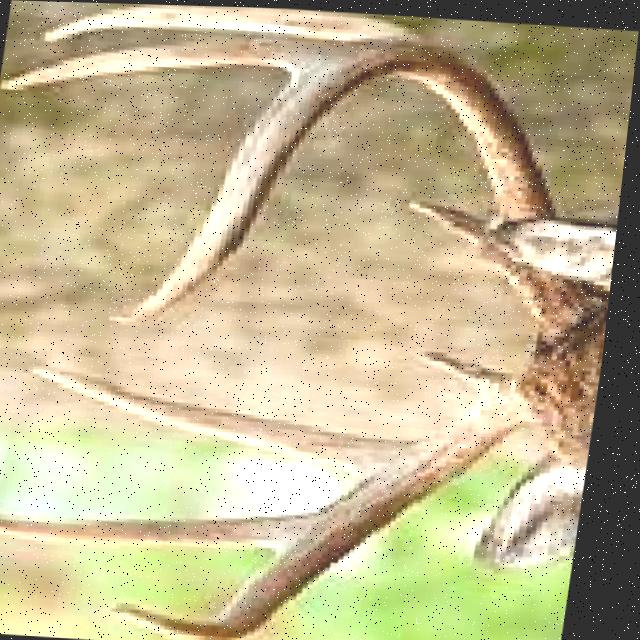L-G1: (405, 194, 497, 260)
L-G2: (35, 2, 436, 43)
L-G3: (0, 30, 353, 93)
R-F: (116, 370, 563, 640)
R-G1: (424, 345, 532, 392)
R-G2: (30, 360, 434, 477)
R-G3: (0, 505, 335, 550)
